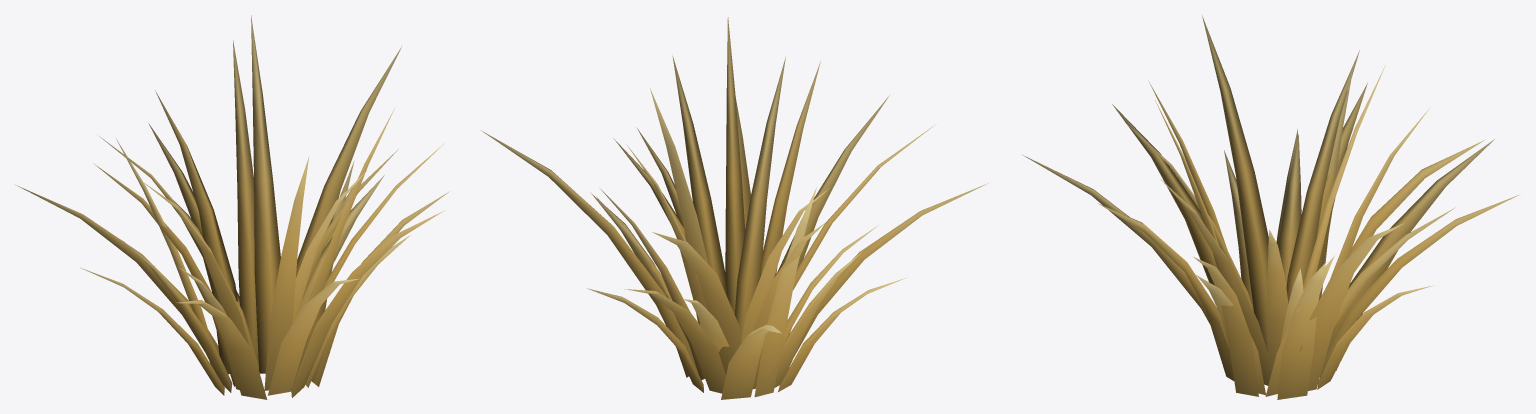
File: GrassTuft.fbx
3 views of the same model, side by side, from view 1: azimuth 30°, elevation 25°; view 2: azimuth 150°, elevation 25°; view 3: azimuth 270°, elevation 25° (orthographic). The views are drawn at different scales.
Parts seen in each view (by area): view 1: GrassTuft; view 2: GrassTuft; view 3: GrassTuft.
Boxes of the visible parts, <box> form: GrassTuft: <box>16,15,449,399</box>; GrassTuft: <box>481,17,988,399</box>; GrassTuft: <box>1023,15,1519,399</box>.
Size of the model in its own units: 0.6124 by 0.4954 by 0.6759.
